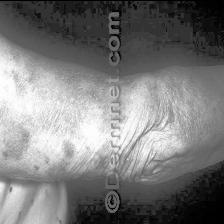Non-Cancerous Skin Condition: (0, 42, 108, 173), (123, 68, 224, 175)
